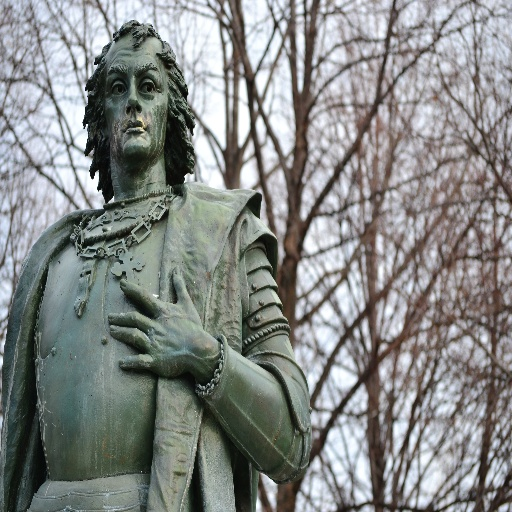hand: (107, 263, 208, 380)
